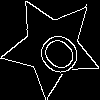O: (26, 21, 86, 81)
